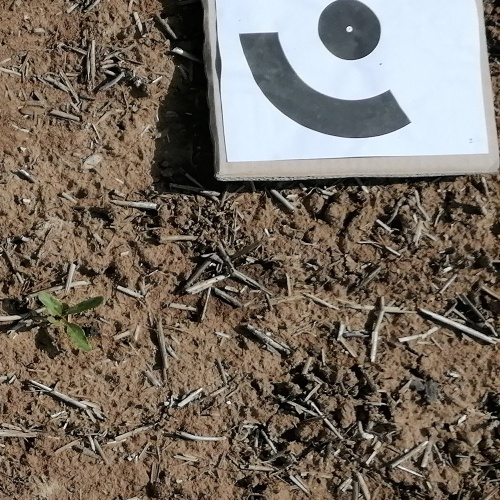beet: (37, 292, 104, 349)
